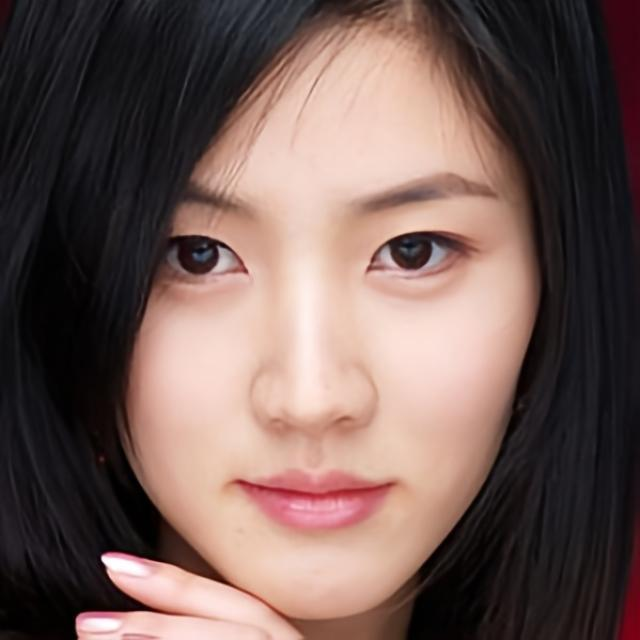content: (115, 2, 542, 616)
